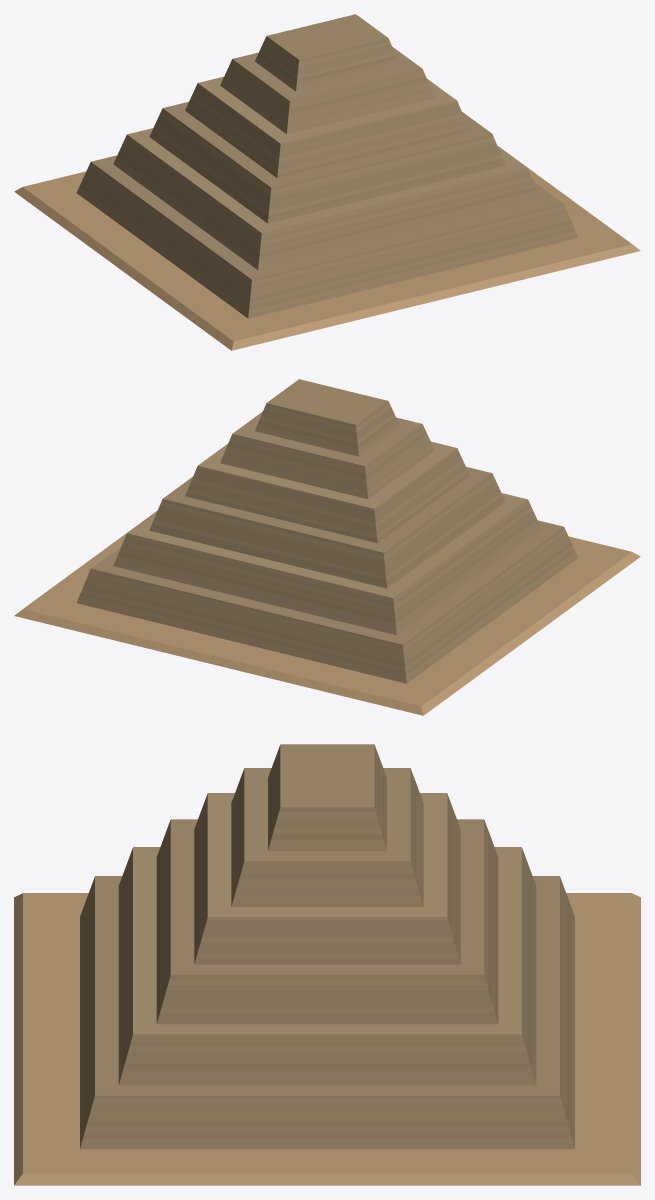
File: step-pyramid-of-djoser.glb
The picture shows the model from 3 angles, top to bottom: view 1: azimuth 30°, elevation 25°; view 2: azimuth 150°, elevation 25°; view 3: azimuth 270°, elevation 25°; orthographic projection. The views are drawn at different scales.
Parts seen in each view (by area): view 1: Step Pyramid of Djoser, Ground; view 2: Step Pyramid of Djoser, Ground; view 3: Step Pyramid of Djoser, Ground.
Part boxes in pixels (x1,y1,x2,y2): Step Pyramid of Djoser: (76,14,578,318); Ground: (14,146,640,350); Step Pyramid of Djoser: (76,379,578,683); Ground: (14,511,640,715); Step Pyramid of Djoser: (80,744,574,1149); Ground: (14,893,640,1185).
Bounding box in the file's own units: 150 × 64.5 × 138.
